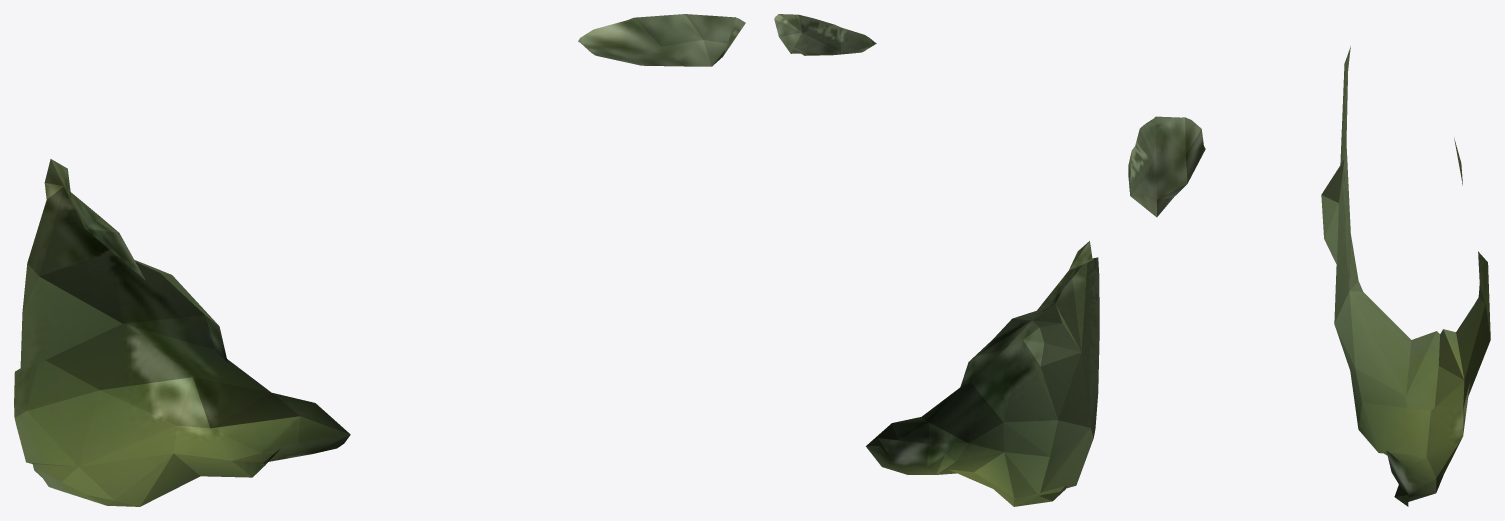
The picture shows the model from 3 angles, left to right: view 1: azimuth 30°, elevation 25°; view 2: azimuth 150°, elevation 25°; view 3: azimuth 270°, elevation 25°; orthographic projection. The views are drawn at different scales.
Bounding box in the file's own units: 3.51 × 2.82 × 2.01.
Materials: 1 (1 with a texture image).
